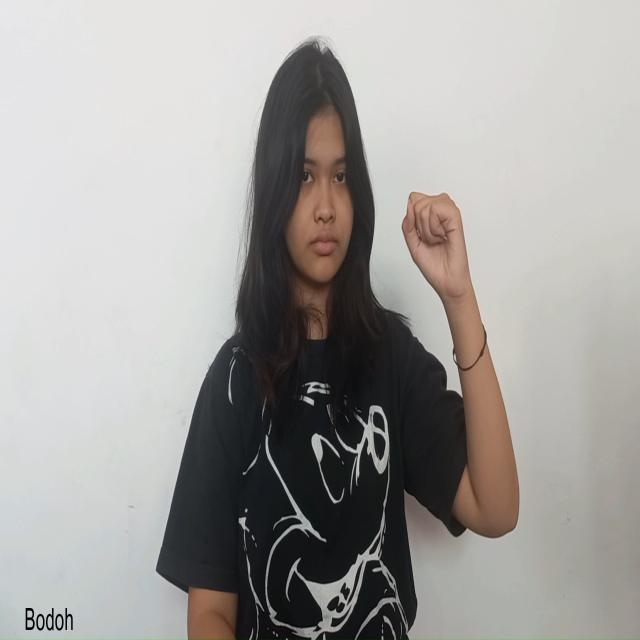Bodoh -BISINDO-: (399, 187, 473, 308)
